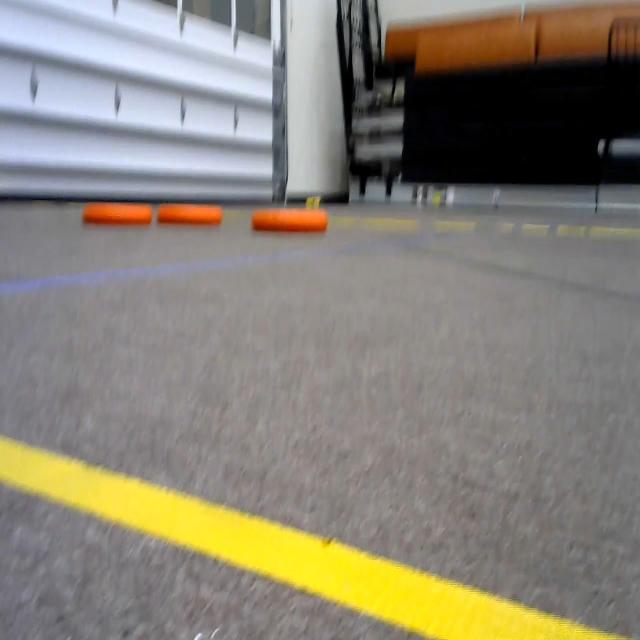note: (82, 188, 154, 230), (248, 204, 333, 234), (156, 193, 228, 221)
